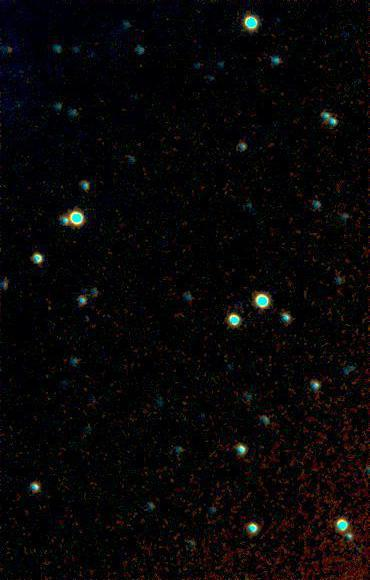star: (0, 35, 24, 65)
